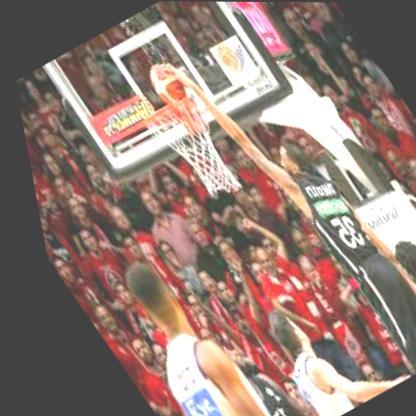basketball: (137, 58, 192, 114)
rim: (128, 88, 200, 135)
